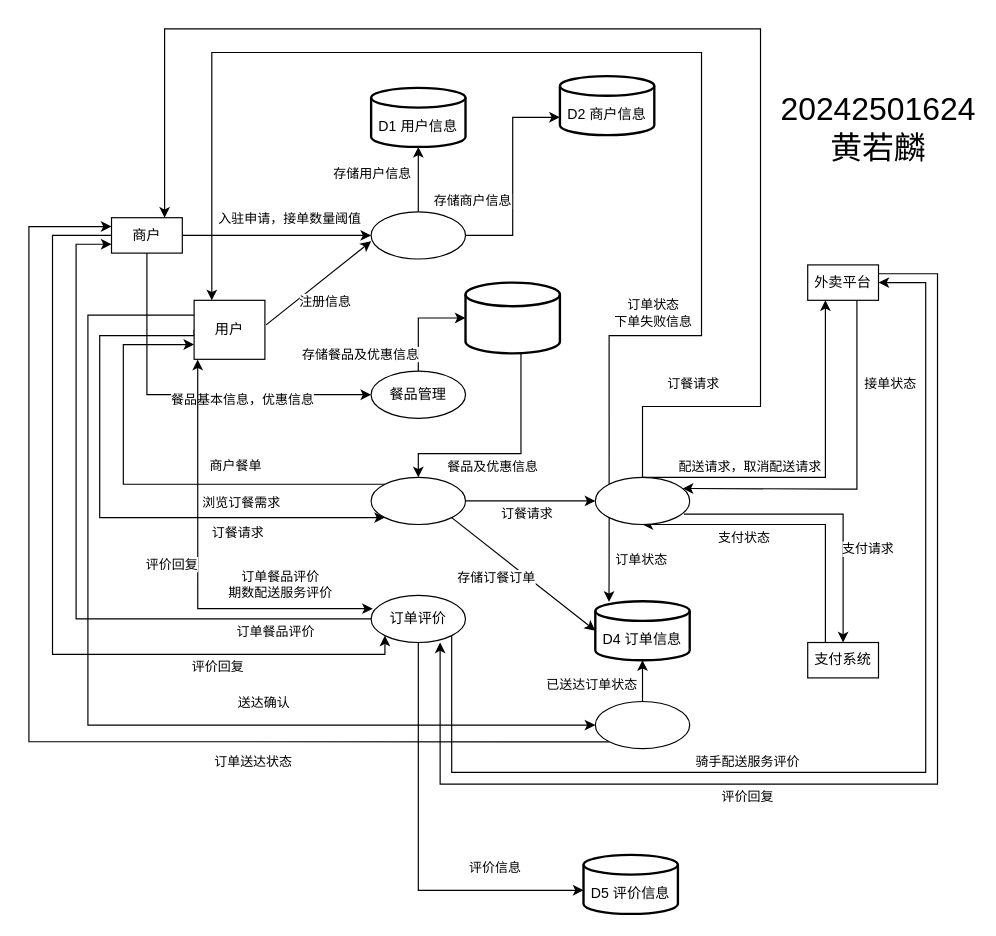
The diagram is 996 pixels wide and 936 high, and some of its shapes have lost their labels. Here are the shapes that lost their labels. From the top down, the centre of each, then its label:
At [418,235]: "入驻管理".
At [512,317]: "D3 餐品及优惠信息".
At [418,500]: "订餐".
At [642,500]: "订单处理".
At [642,724]: "配送".
